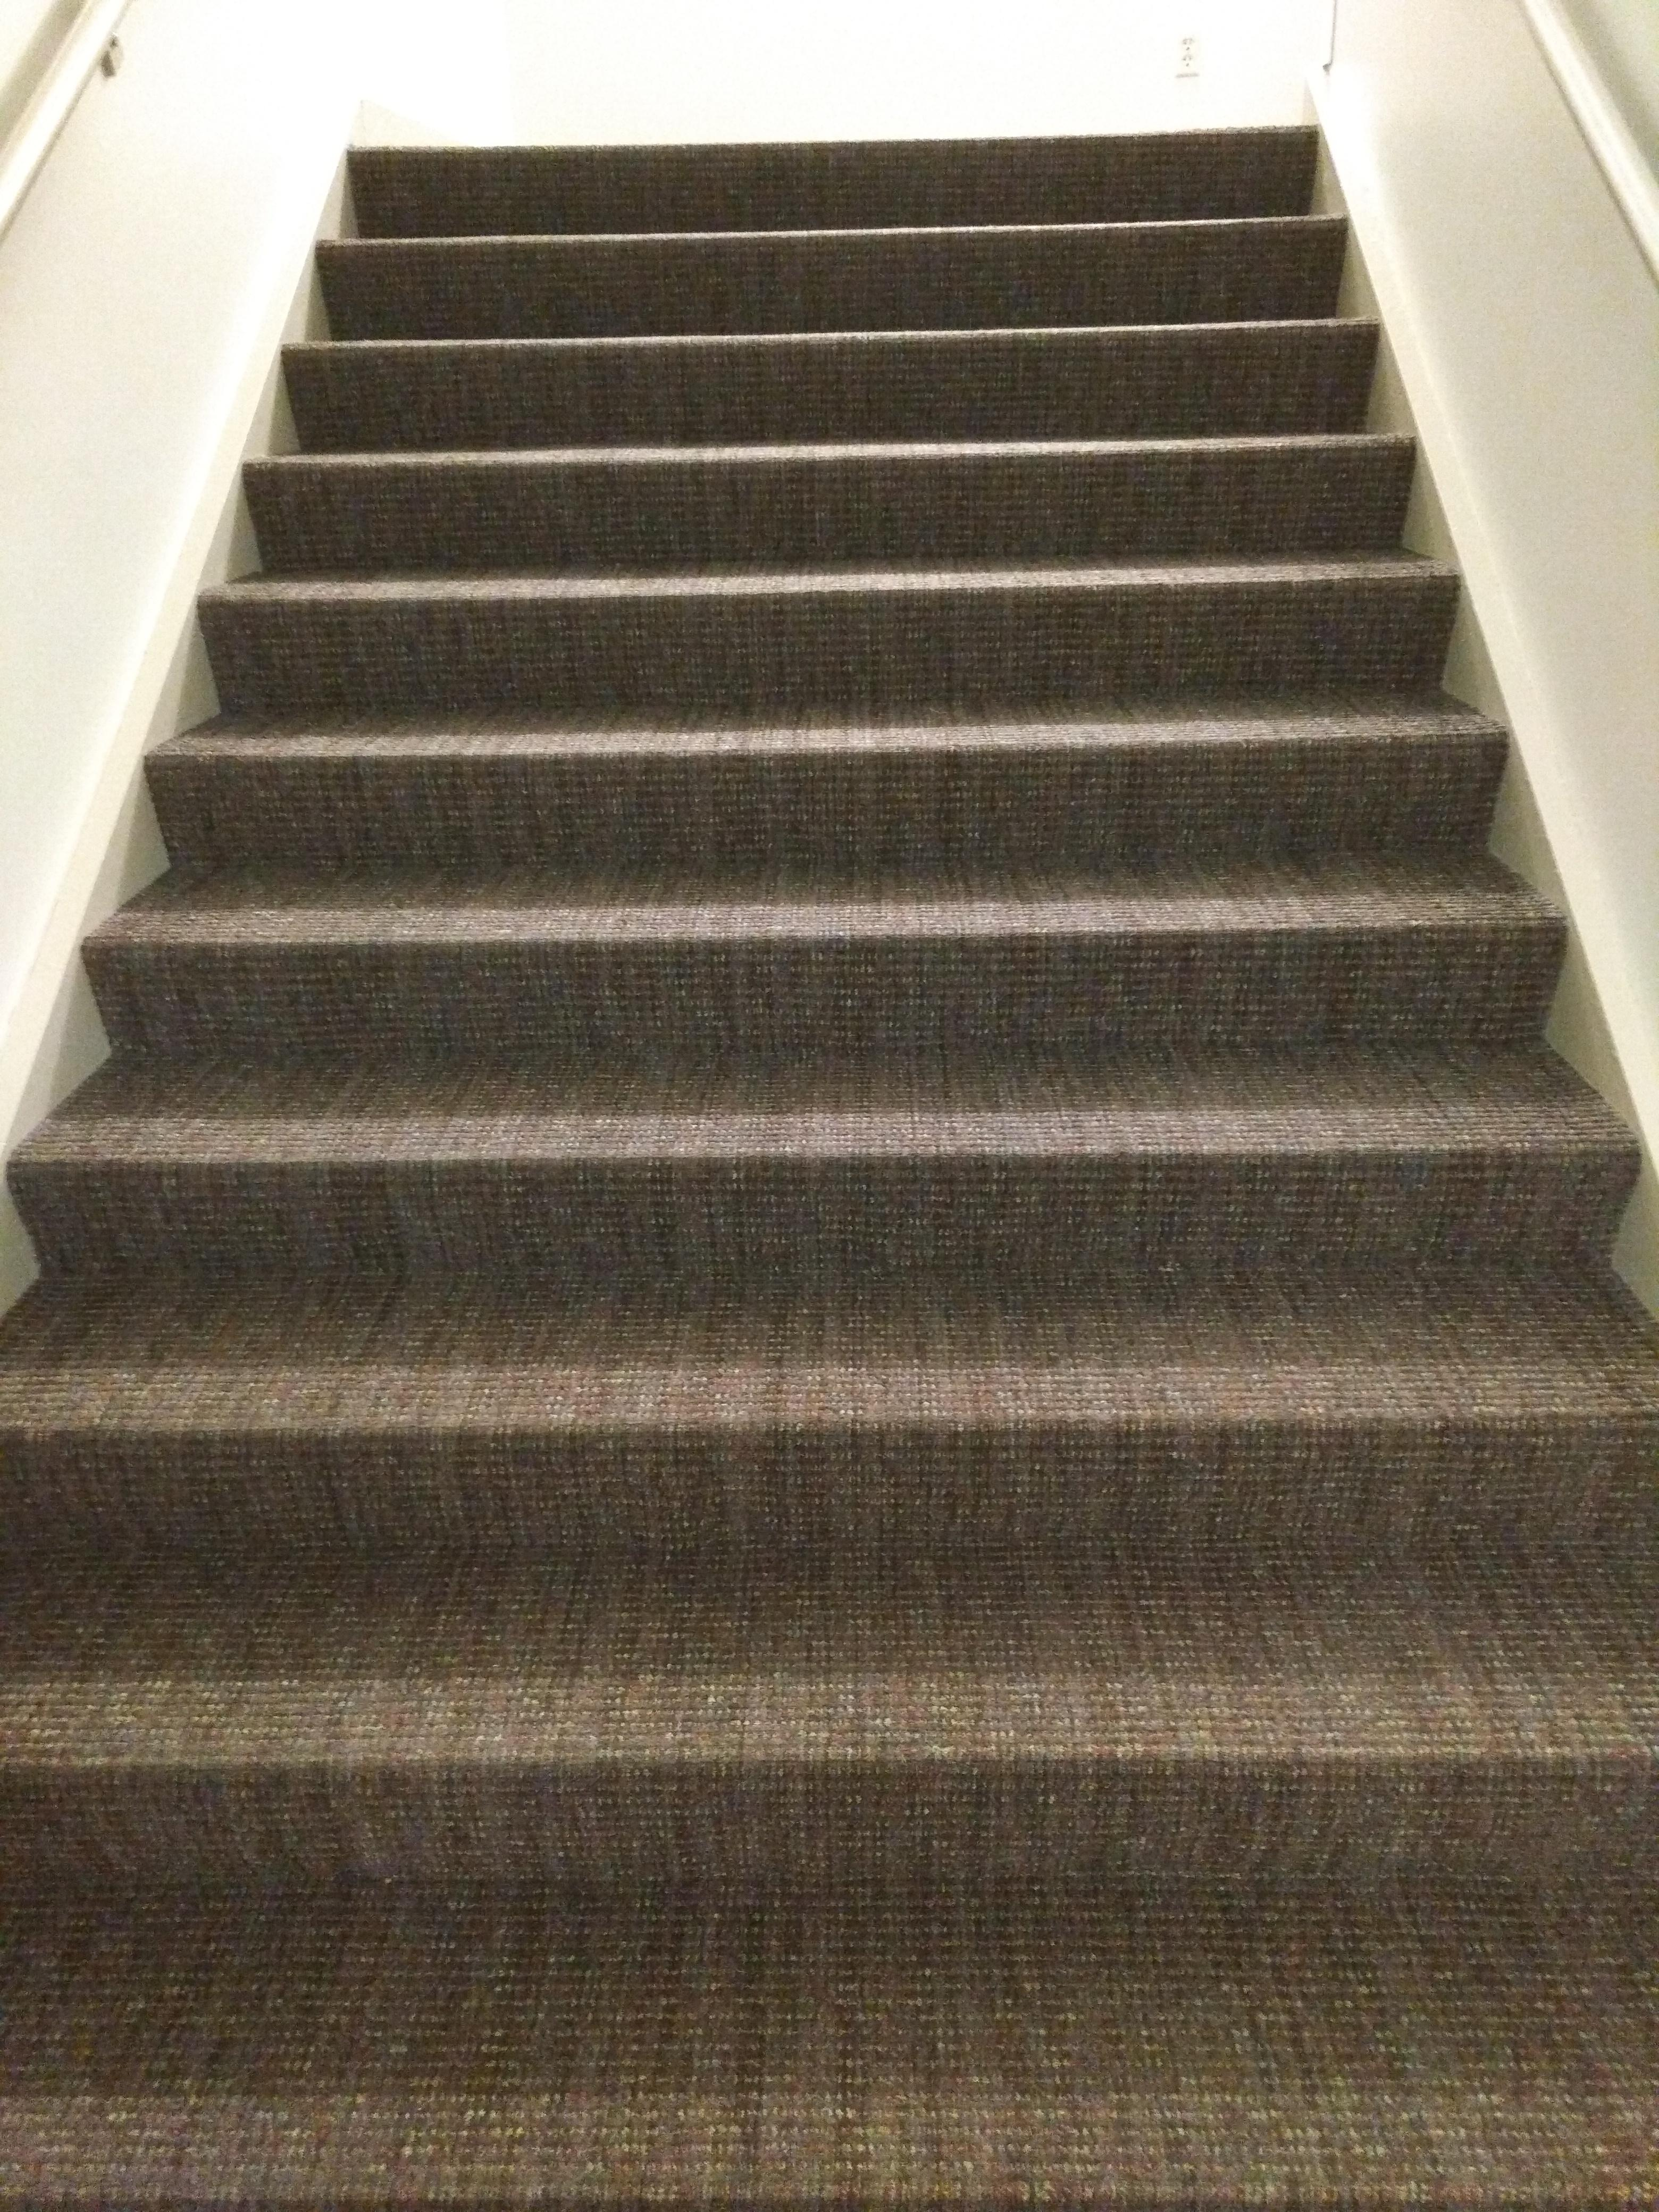stairs_up: (9, 87, 1659, 1883)
